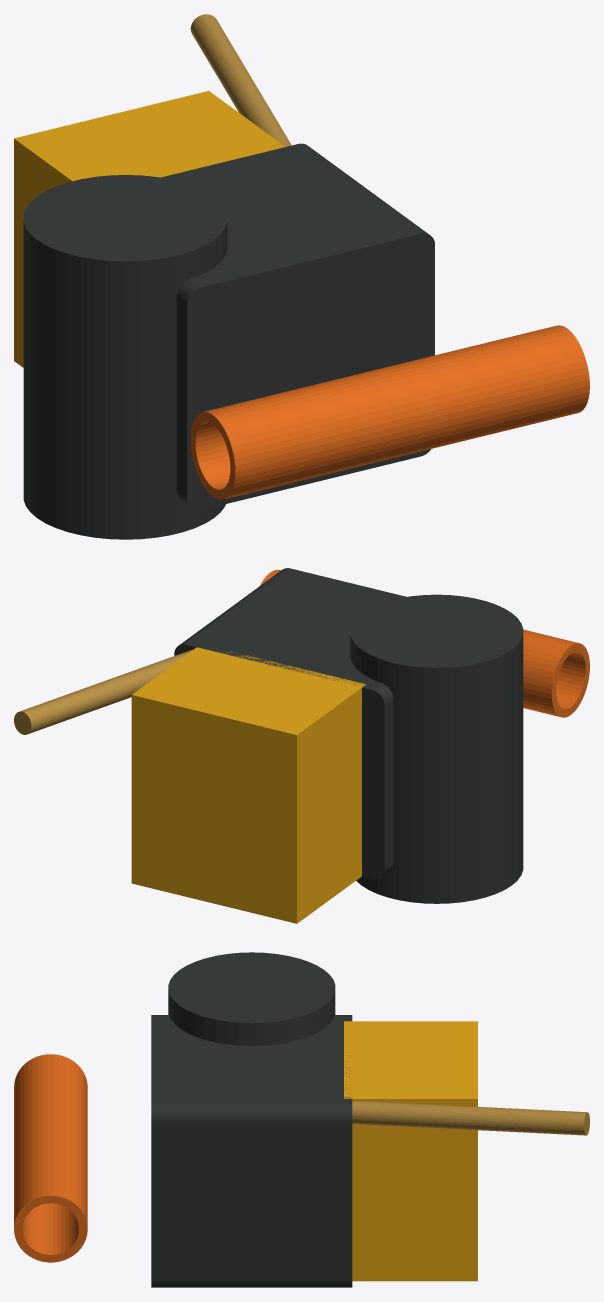
Rendered from arm_wrist_link.obj.
3 renders of one model, top to bottom at view 1: azimuth 30°, elevation 25°; view 2: azimuth 150°, elevation 25°; view 3: azimuth 270°, elevation 25°, orthographic. The views are drawn at different scales.
Visible parts, largest first — view 1: knuckle_0, tool_block_1, seed_injector_3, gripper_body_2, water_nozzle_4; view 2: gripper_body_2, knuckle_0, tool_block_1, seed_injector_3, water_nozzle_4; view 3: tool_block_1, gripper_body_2, seed_injector_3, knuckle_0, water_nozzle_4.
Boxes of the visible parts, x1,y1,x2,y2 form: knuckle_0: [23, 175, 227, 539]; tool_block_1: [161, 143, 434, 510]; seed_injector_3: [190, 325, 589, 499]; gripper_body_2: [14, 91, 285, 367]; water_nozzle_4: [190, 14, 291, 146]; gripper_body_2: [131, 647, 365, 923]; knuckle_0: [350, 594, 523, 903]; tool_block_1: [174, 568, 406, 878]; seed_injector_3: [260, 569, 589, 717]; water_nozzle_4: [14, 649, 192, 734]; tool_block_1: [151, 1015, 352, 1287]; gripper_body_2: [344, 1021, 477, 1281]; seed_injector_3: [14, 1054, 87, 1262]; knuckle_0: [168, 952, 335, 1045]; water_nozzle_4: [352, 1101, 589, 1135].
Size of the model in its own units: 0.23 by 0.15 by 0.3437.
